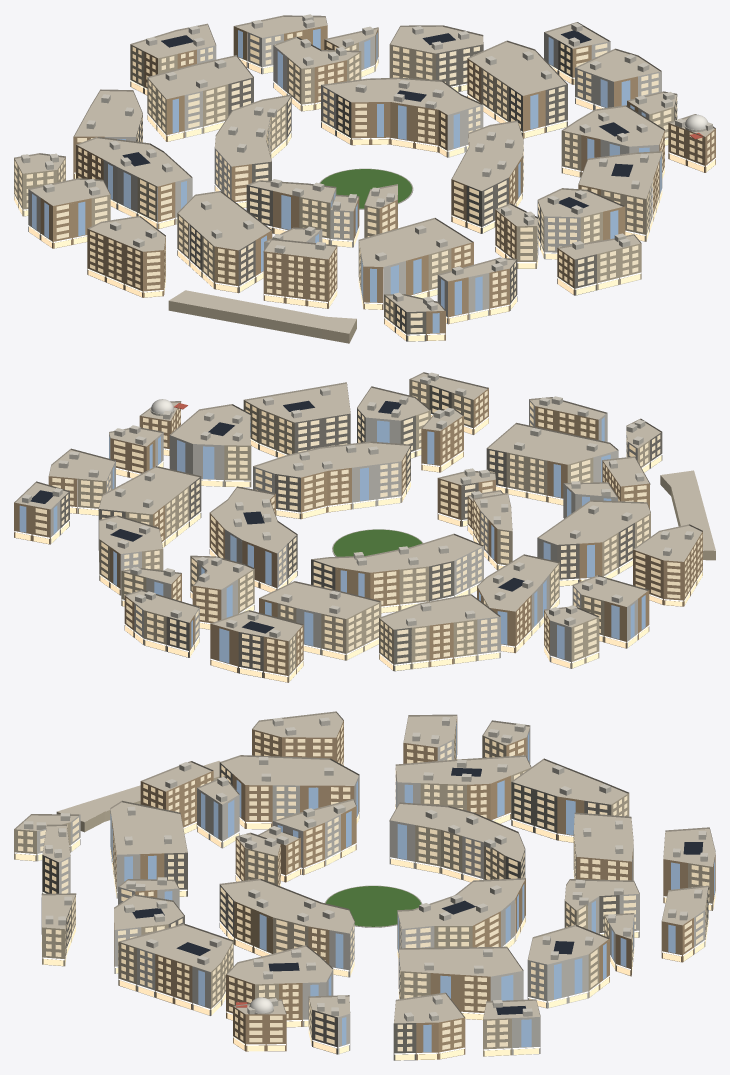
The model's file is bahria_civic_centre.glb.
3 renders of one model, top to bottom at view 1: azimuth 30°, elevation 25°; view 2: azimuth 150°, elevation 25°; view 3: azimuth 270°, elevation 25°, orthographic. The views are drawn at different scales.
Visible parts, largest first — view 1: m_roof_concrete, m_wall_tan, m_window_glass, m_wall_cream, m_wall_white, m_roof_room, m_wall_grey, m_shopfront, m_curtain_glass, m_sign_band, m_island_grass, m_solar_panel; view 2: m_roof_concrete, m_window_glass, m_wall_tan, m_wall_cream, m_wall_white, m_wall_grey, m_roof_room, m_shopfront, m_curtain_glass, m_sign_band, m_solar_panel, m_island_grass; view 3: m_roof_concrete, m_wall_tan, m_window_glass, m_wall_white, m_wall_cream, m_roof_room, m_curtain_glass, m_shopfront, m_wall_grey, m_island_grass, m_sign_band, m_solar_panel.
Part boxes in pixels (left/top/right/bottom): m_roof_concrete: left=14, top=15, right=715, bottom=333; m_wall_tan: left=40, top=25, right=715, bottom=340; m_window_glass: left=14, top=31, right=714, bottom=332; m_wall_cream: left=14, top=42, right=674, bottom=343; m_wall_white: left=28, top=32, right=662, bottom=323; m_roof_room: left=21, top=14, right=712, bottom=310; m_wall_grey: left=136, top=40, right=677, bottom=341; m_shopfront: left=14, top=59, right=715, bottom=341; m_curtain_glass: left=32, top=28, right=661, bottom=333; m_sign_band: left=14, top=57, right=715, bottom=335; m_island_grass: left=320, top=169, right=412, bottom=208; m_solar_panel: left=122, top=30, right=632, bottom=208; m_roof_concrete: left=14, top=372, right=715, bottom=641; m_window_glass: left=35, top=381, right=702, bottom=673; m_wall_tan: left=14, top=388, right=702, bottom=682; m_wall_cream: left=77, top=379, right=715, bottom=682; m_wall_white: left=50, top=399, right=637, bottom=668; m_wall_grey: left=60, top=385, right=662, bottom=677; m_roof_room: left=22, top=372, right=693, bottom=637; m_shopfront: left=15, top=415, right=702, bottom=682; m_curtain_glass: left=19, top=417, right=645, bottom=663; m_sign_band: left=14, top=414, right=703, bottom=676; m_solar_panel: left=30, top=400, right=524, bottom=633; m_island_grass: left=333, top=529, right=422, bottom=556; m_roof_concrete: left=14, top=711, right=715, bottom=1023; m_wall_tan: left=112, top=716, right=715, bottom=1060; m_window_glass: left=18, top=723, right=709, bottom=1051; m_wall_white: left=37, top=726, right=705, bottom=1055; m_wall_cream: left=14, top=729, right=712, bottom=1056; m_roof_room: left=24, top=717, right=707, bottom=1021; m_curtain_glass: left=110, top=722, right=714, bottom=1052; m_shopfront: left=15, top=756, right=715, bottom=1060; m_wall_grey: left=41, top=762, right=708, bottom=1060; m_island_grass: left=326, top=886, right=421, bottom=926; m_sign_band: left=14, top=753, right=715, bottom=1054; m_solar_panel: left=132, top=767, right=703, bottom=1014.
Bounding box in the file's own units: 383 × 31.9 × 376.
